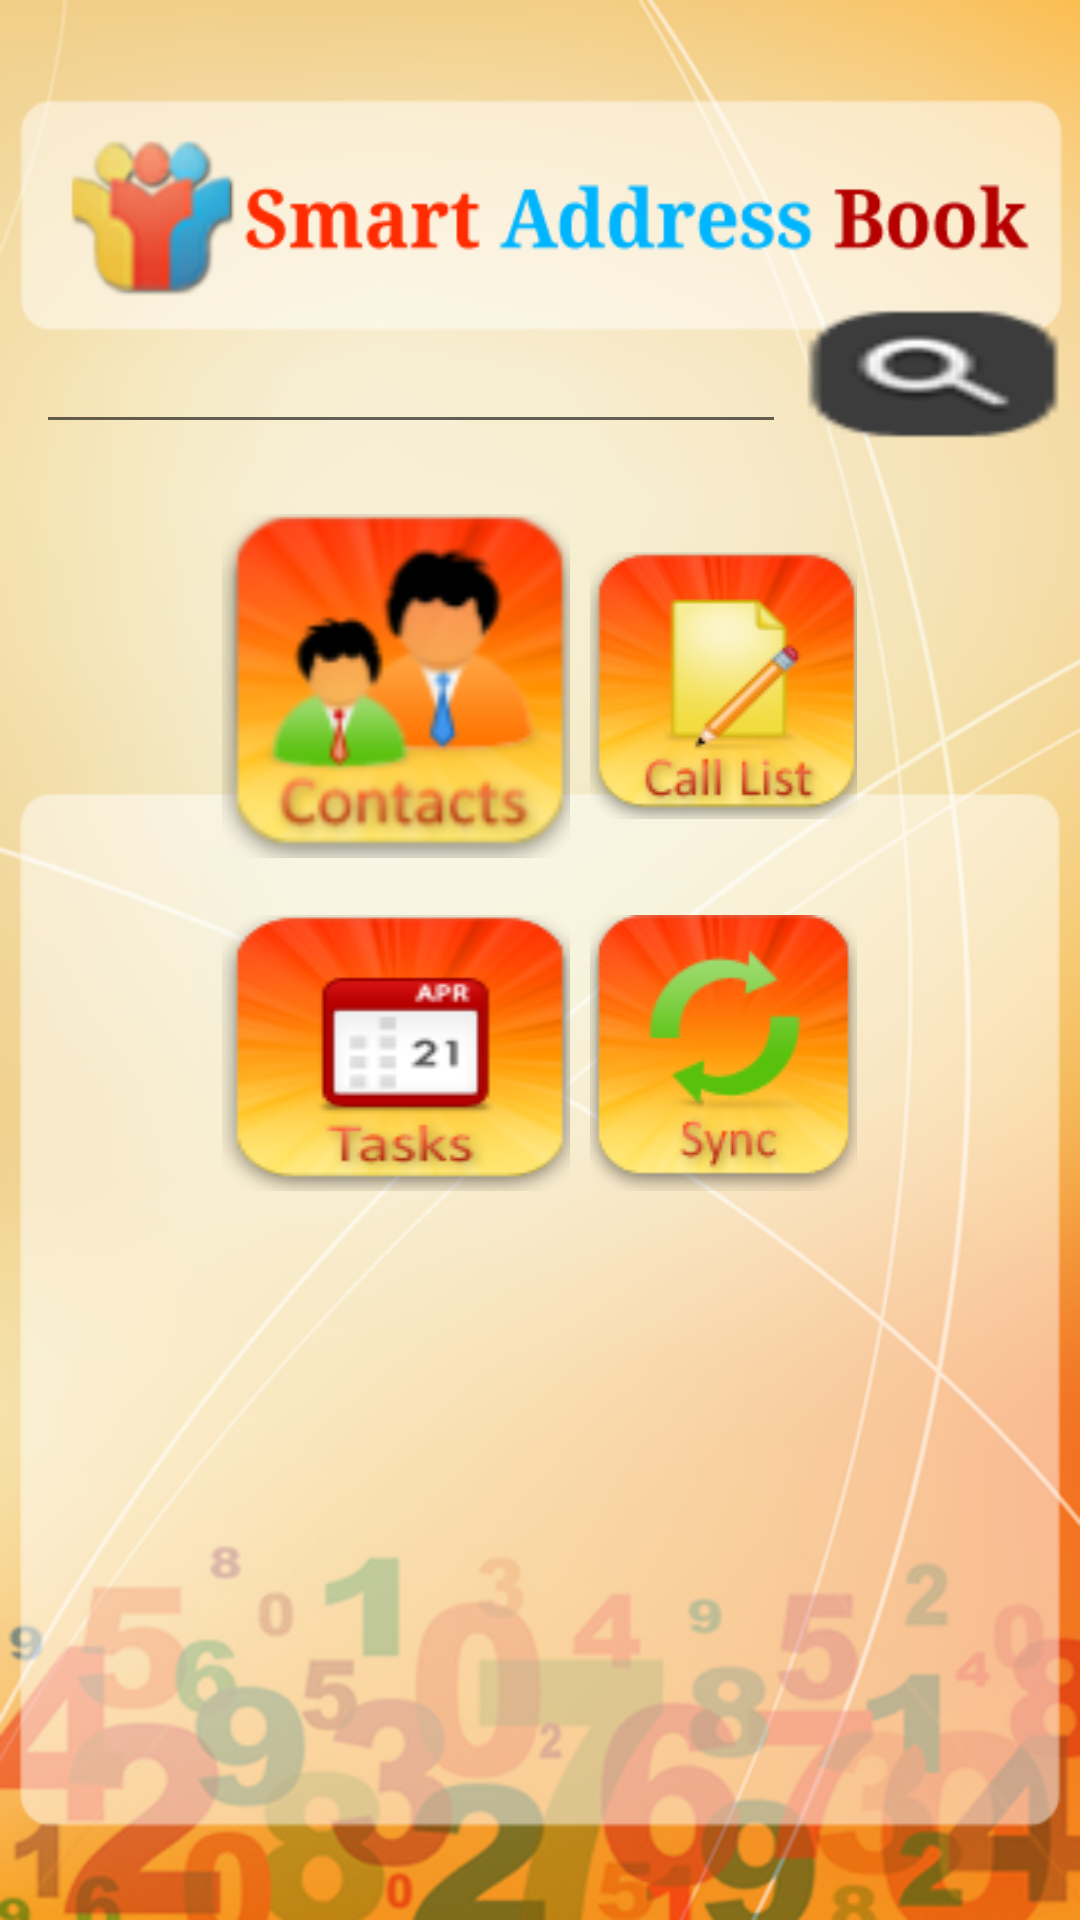

Named icons in this screenshot (1080px x 1920px) and their centers, (x,y):
search: (933,372)
